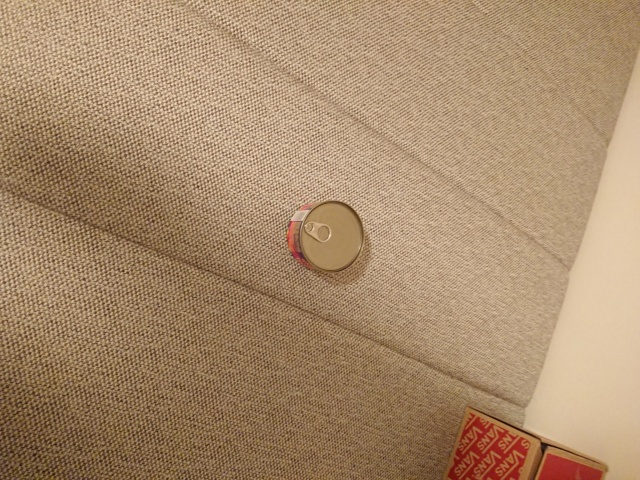Giana Tuna Salad Mexico 185g: (283, 197, 370, 280)
